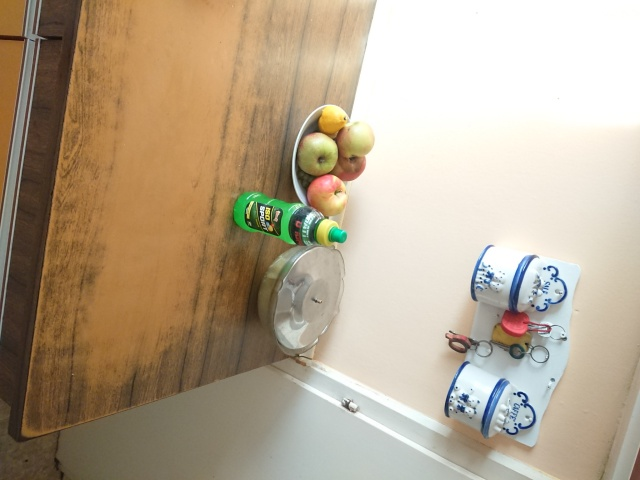Vindi Iso Sport Lemon-Grapefruit 500mL: (230, 188, 349, 249)
